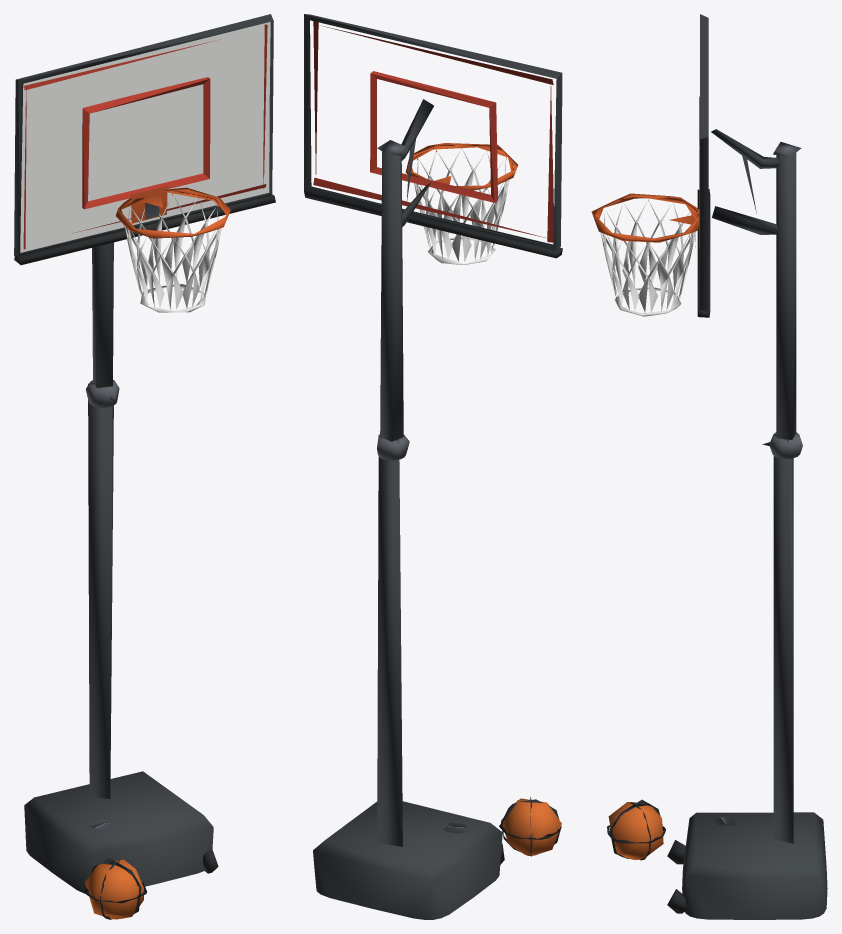
File: basketballHoop.far.glb
3 views of the same model, side by side, from view 1: azimuth 30°, elevation 25°; view 2: azimuth 150°, elevation 25°; view 3: azimuth 270°, elevation 25° (orthographic).
Parts seen in each view (by area): view 1: basketballHoop_far; view 2: basketballHoop_far; view 3: basketballHoop_far.
Boxes of the visible parts, x1,y1,x2,y2 form: basketballHoop_far: (14, 14, 275, 919); basketballHoop_far: (304, 14, 562, 919); basketballHoop_far: (591, 14, 827, 919).
Bounding box in the file's own units: 1.2 × 3.7 × 0.9739.
